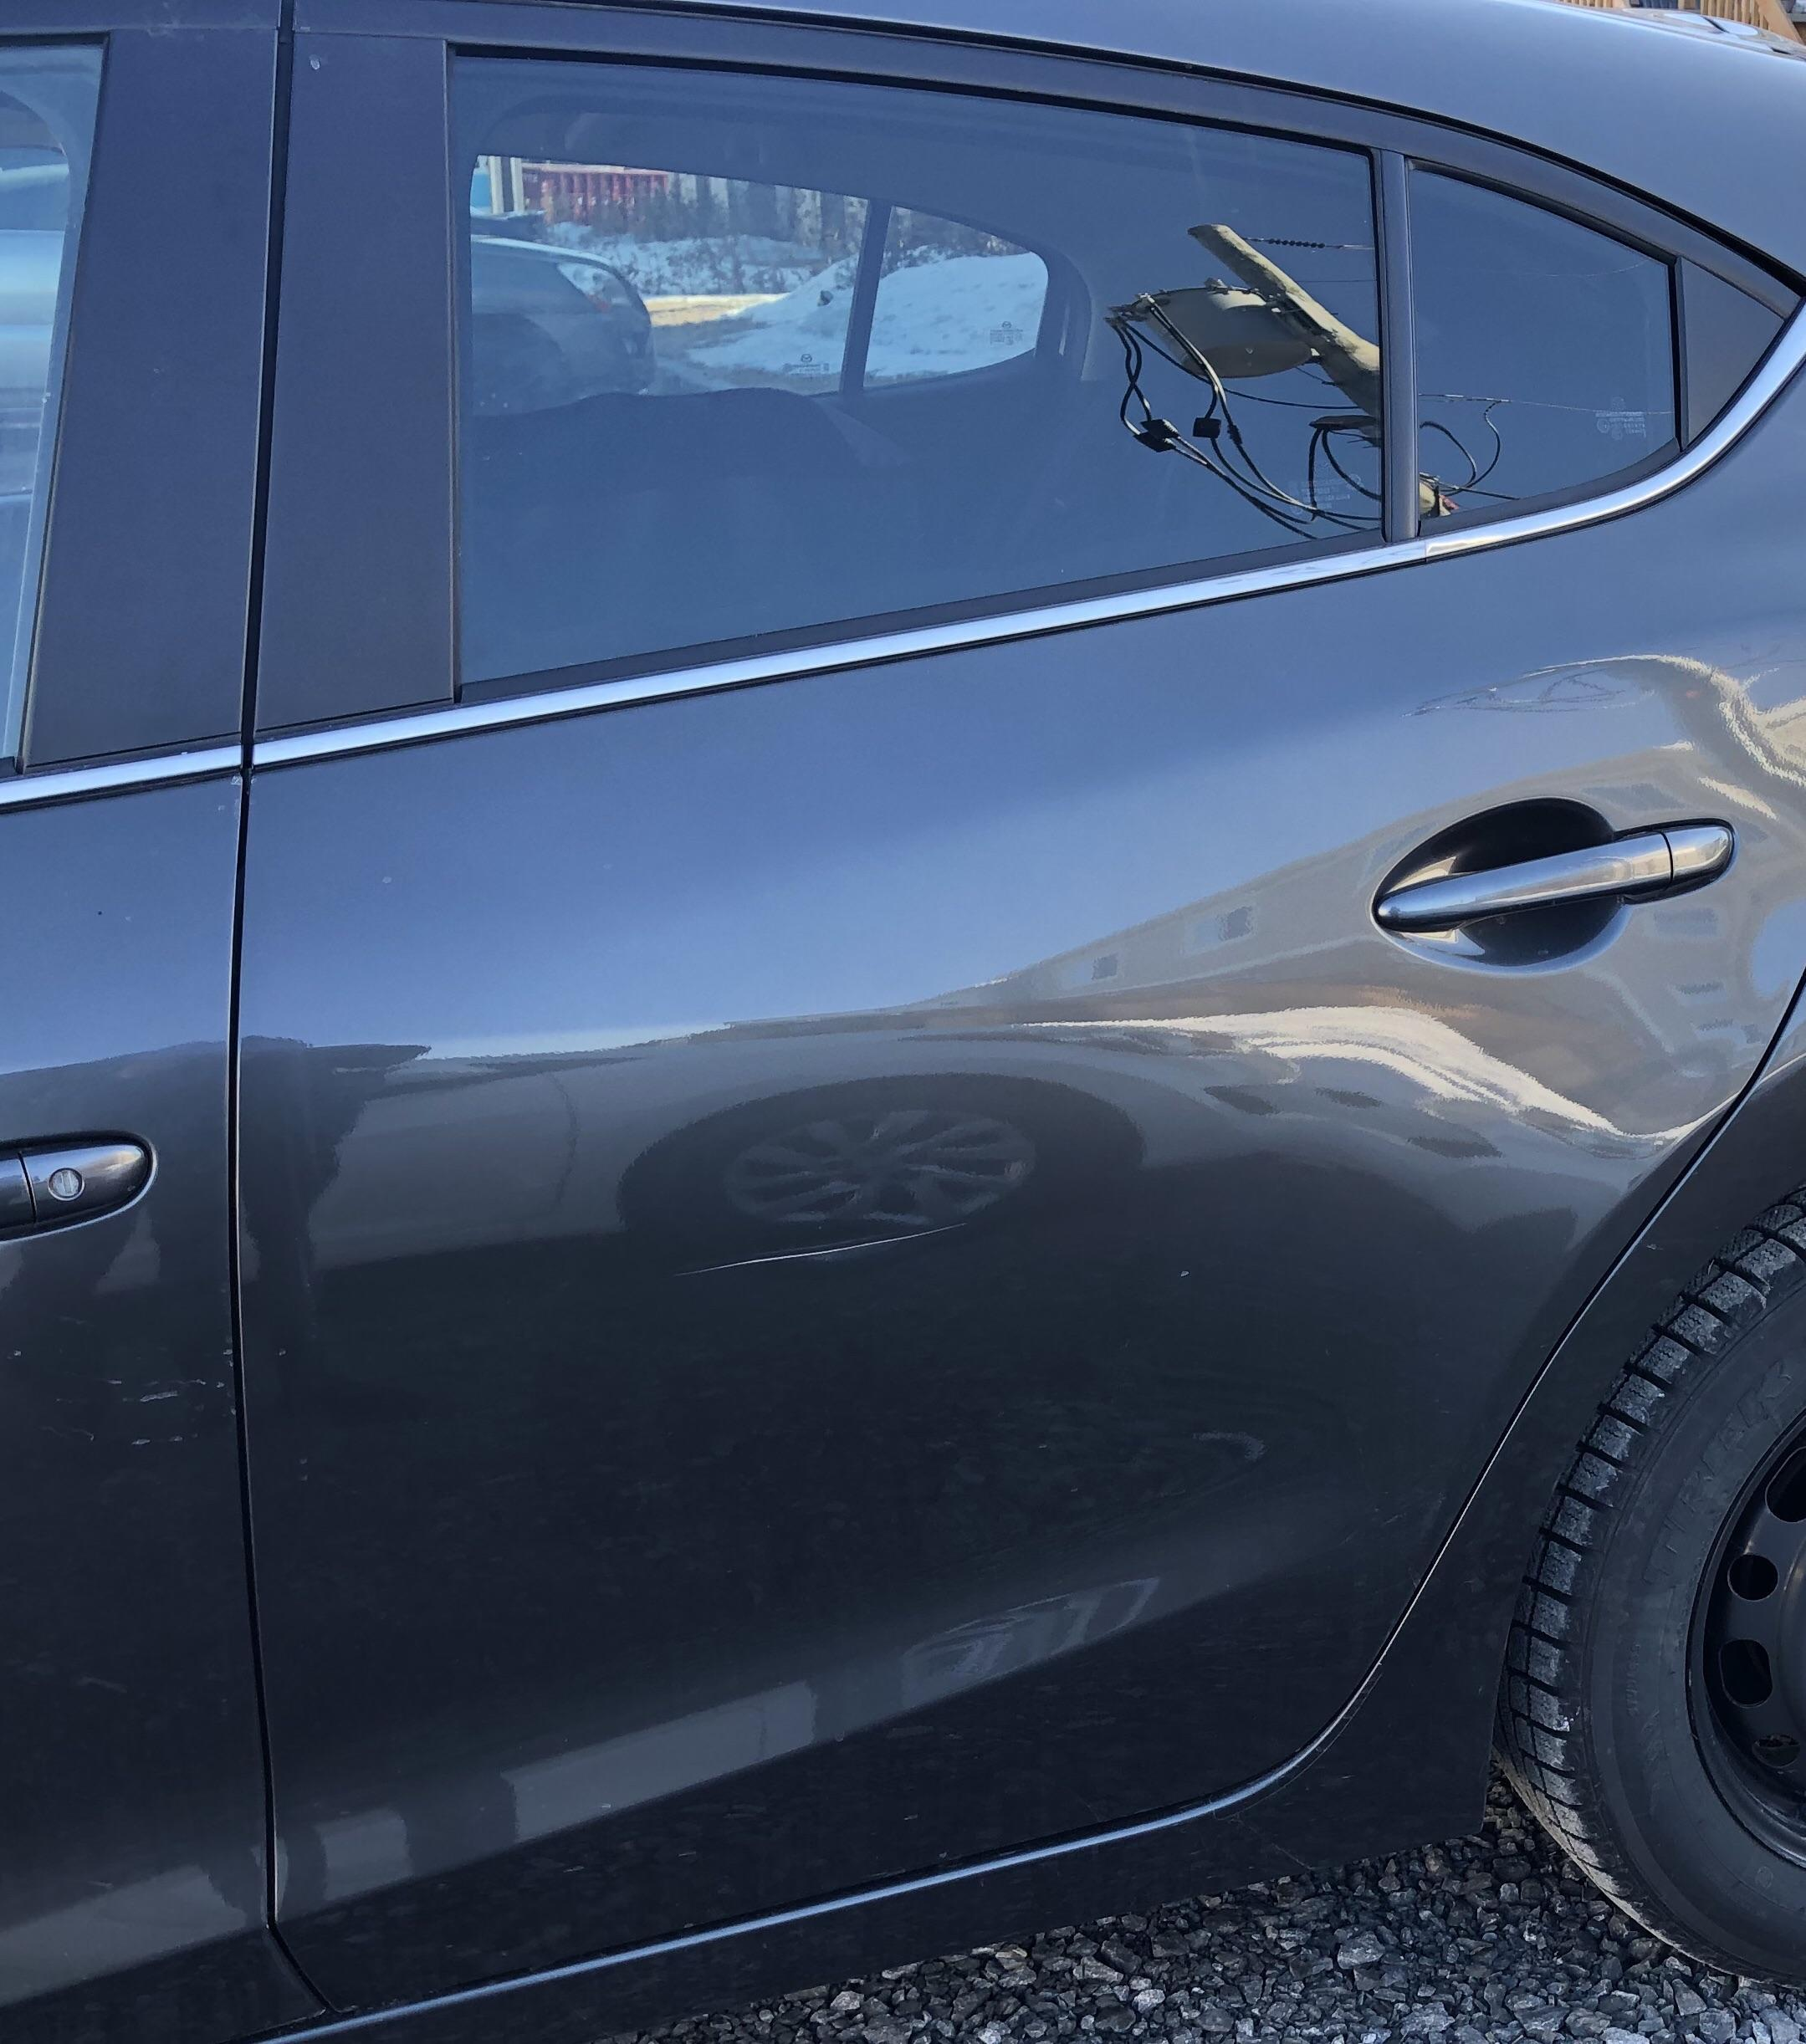scratch: (633, 1202, 1009, 1316), (87, 1300, 275, 1483)
